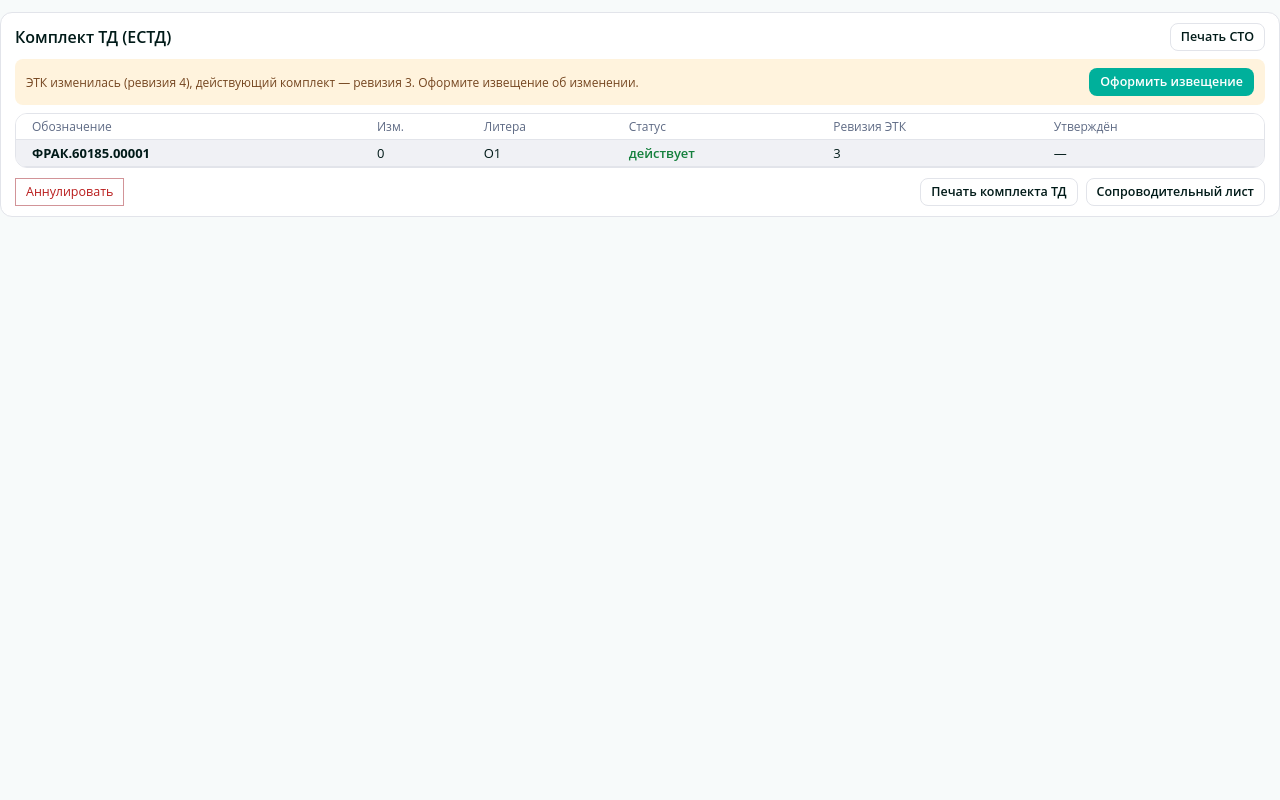
Scenario: the notice form takes the workshop and site of the latest issue
Click the button "Оформить извещение": (1172, 82) [1089,68,1254,96]
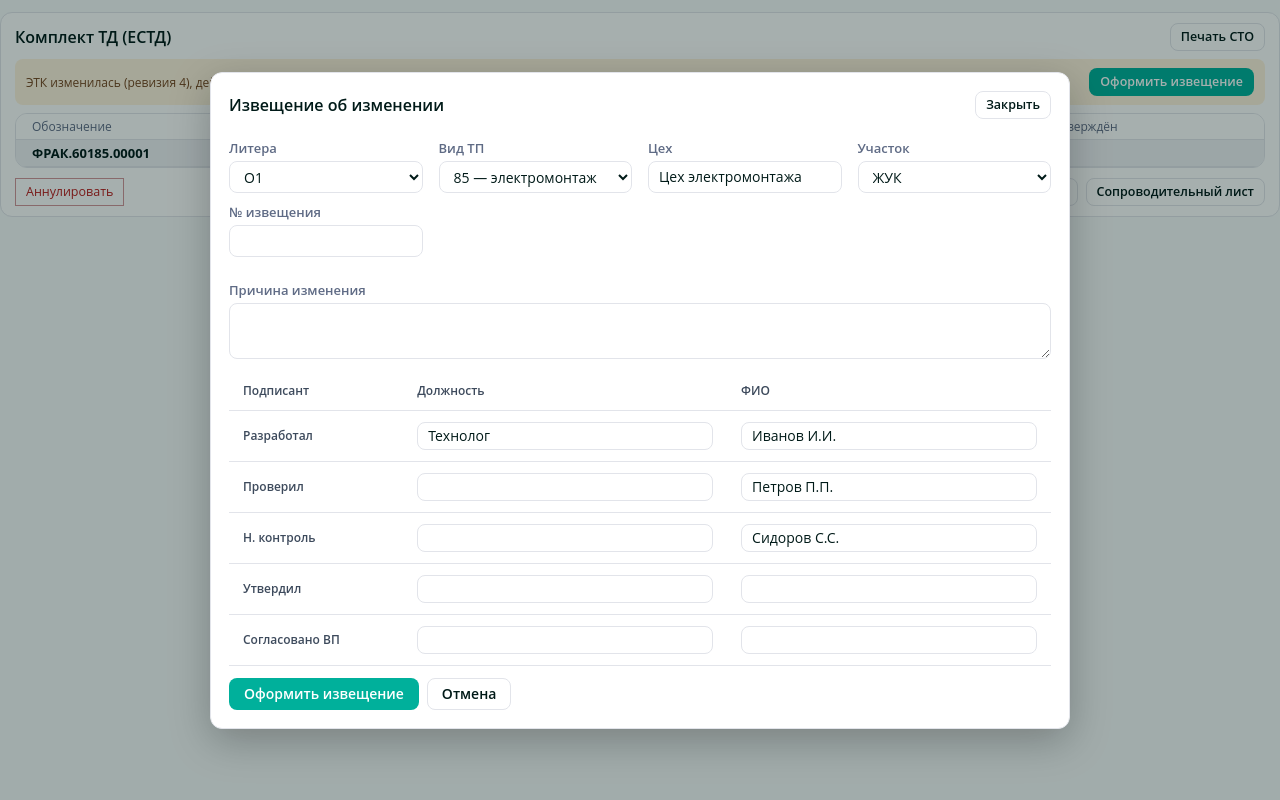
Expected: the field labelled "Цех" holds "Цех электромонтажа", [648,160,842,192]
Expected: the dropdown labelled "Участок" shows "ЖУК", [858,160,1051,192]
